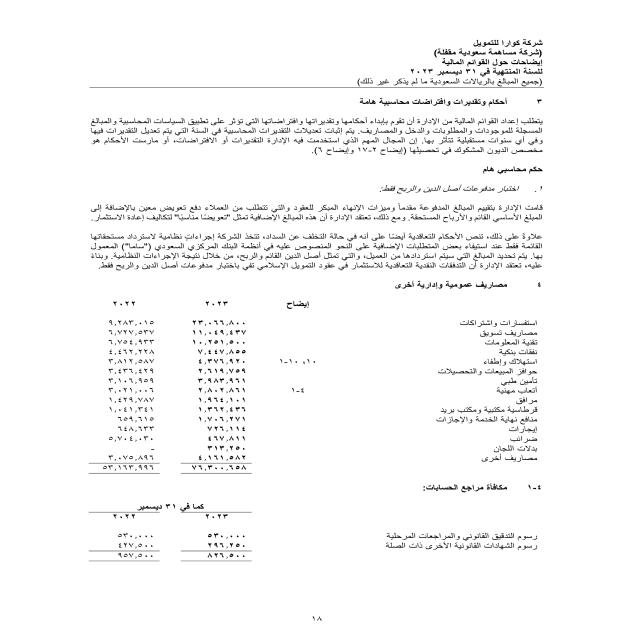notes: (427, 58, 548, 67)
table: (68, 289, 328, 485), (57, 494, 266, 572)
